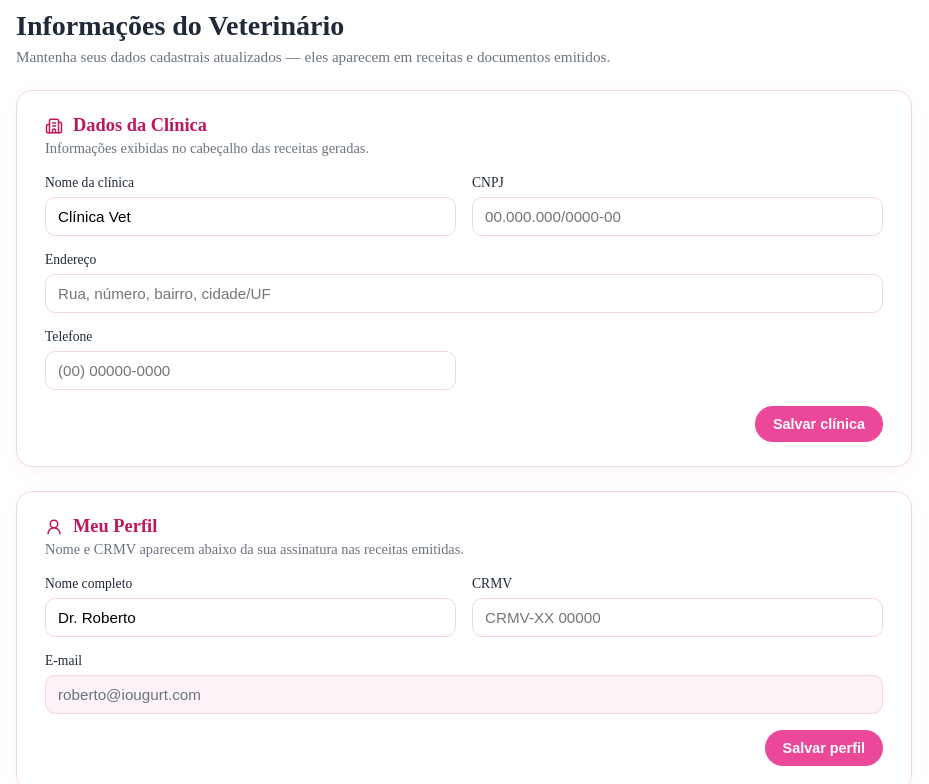
SettingsPage — Formulários de Clínica e Perfil (CNPJ, Telefone, CRMV) › deve normalizar o CRMV ao perder o foco e validar formato ao salvar perfil
Type "sp12345" into the field labelled "CRMV" at (678, 618), box [472,598,883,637]
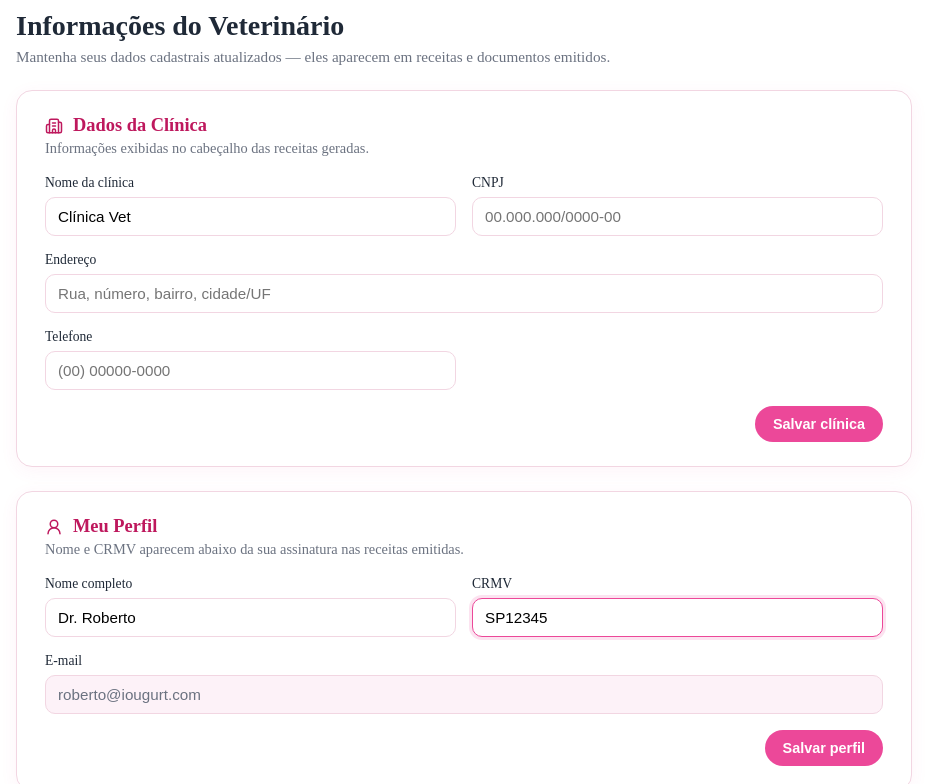
Press Tab
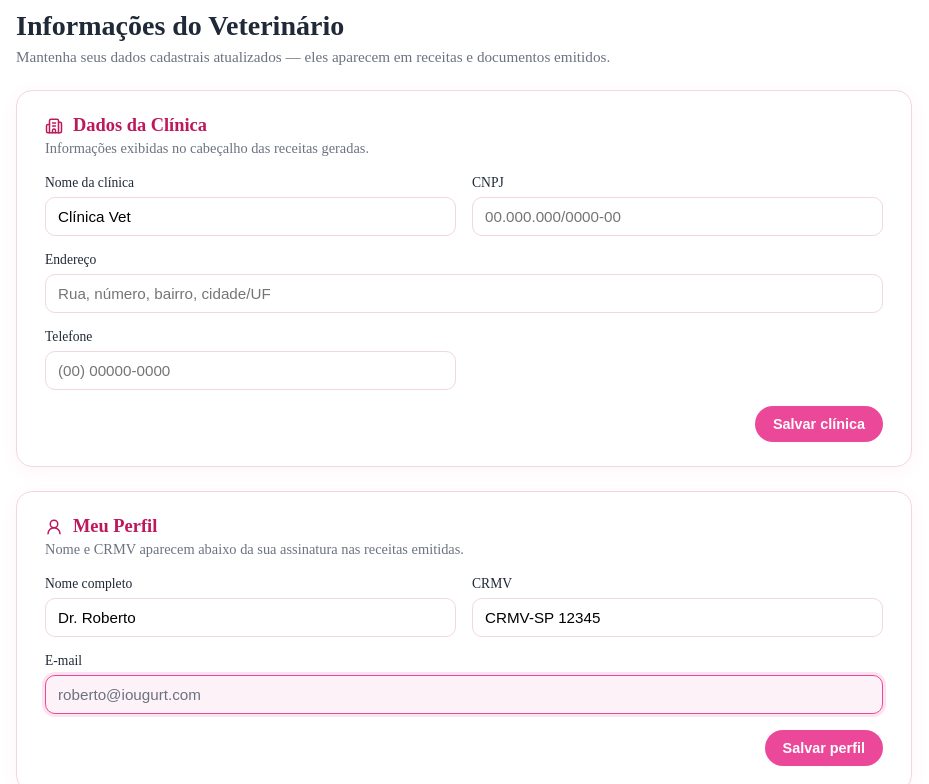
Expected: the field labelled "CRMV" holds "CRMV-SP 12345", [472,598,883,637]
